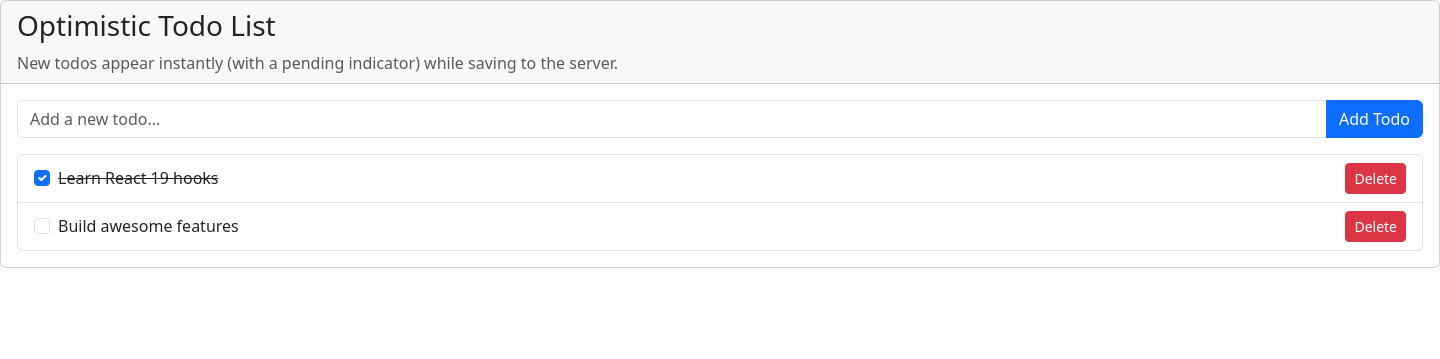
Test: OptimisticTodos › Deleting todos › should restore todo if delete fails
The width and height of the screenshot is (1440, 359).
Click the button "Delete" in the row of "Build awesome features" at (1376, 226), box [1345,211,1406,242]
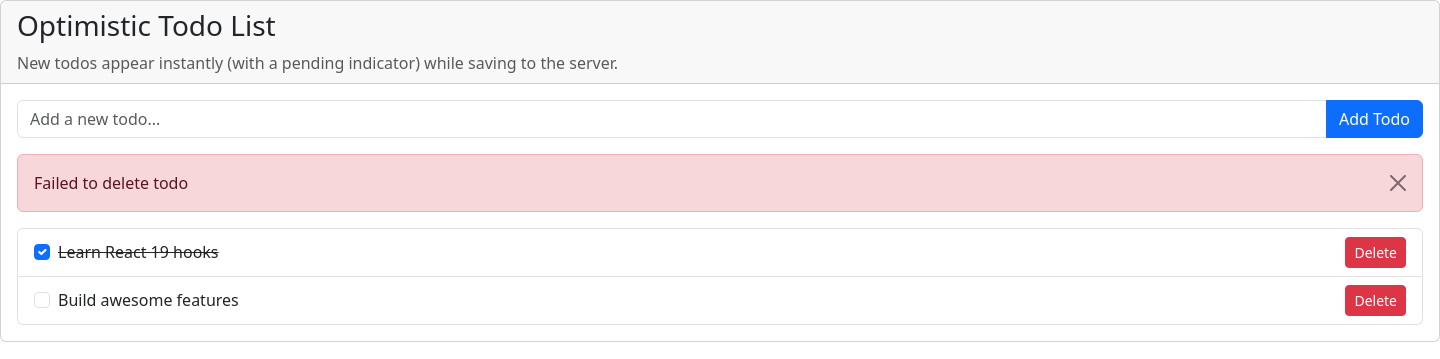
Check: the text "Build awesome features" is shown, box [58,289,239,311]
Check: the text "Failed to delete todo" is shown, box [17,154,1423,212]
